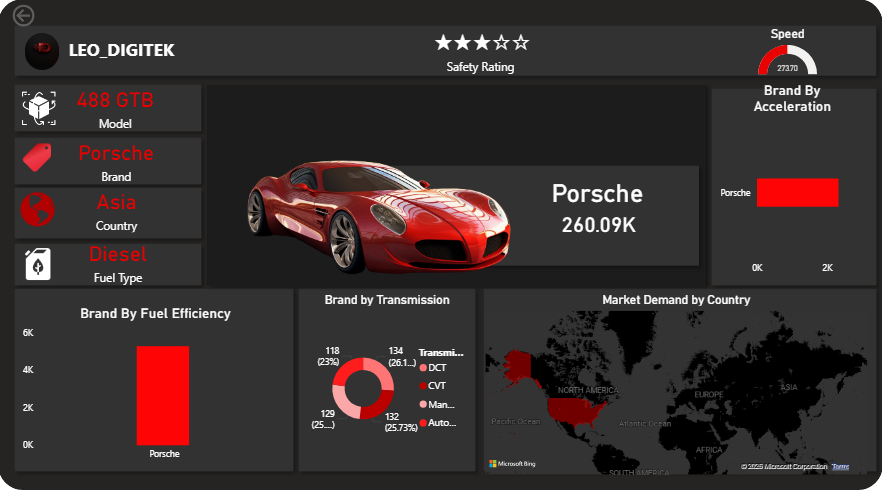

Layout of this report page (visuals, bound fields, positions):
{"tool":"powerbi","page":{"name":"Vehicle Drill Through","canvas":[1280,720],"ordinal":1},"visuals":[{"type":"shape","box":[30.3,9.6,1218.1,675.8],"z":0},{"type":"shape","box":[44,191.3,275.3,82.6],"z":1000},{"type":"shape","box":[44,260.1,275.3,88.1],"z":2000},{"type":"shape","box":[44,337.2,275.3,75.7],"z":3000},{"type":"shape","box":[44,399.1,401.9,269.8],"z":4000},{"type":"shape","box":[434.9,399.1,261.5,269.8],"z":5000},{"type":"shape","box":[689.5,399.1,558.8,269.8],"z":6000},{"type":"filledMap","title":"Market Demand by Country","fields":{"Category":["Table_Elite_Sports_Cars_in_Data.Country"]},"box":[696.4,412.9,535.4,256],"z":7000},{"type":"shape","box":[44,118.4,275.3,82.6],"z":8000},{"type":"shape","box":[309.7,118.4,704.7,294.5],"z":9000},{"type":"shape","box":[1003.4,123.9,245,289],"z":10000},{"type":"card","fields":{"Values":["Min(Table_Elite_Sports_Cars_in_Data.Model)"]},"box":[75.8,118.7,231.7,77.2],"z":11000},{"type":"card","fields":{"Values":["Min(Table_Elite_Sports_Cars_in_Data.Brand)"]},"box":[94.4,191.6,195.9,77.2],"z":12000},{"type":"card","fields":{"Values":["Min(Table_Elite_Sports_Cars_in_Data.Country)"]},"box":[67.2,258.9,251.7,77.2],"z":13000},{"type":"card","fields":{"Values":["Min(Table_Elite_Sports_Cars_in_Data.Fuel_Type)"]},"box":[67.2,324.6,256,88.7],"z":14000},{"type":"shape","box":[44.3,37.2,1204.2,87.2],"z":15000},{"type":"shape","box":[539.5,133.5,463.8,265.6],"z":16000},{"type":"card","fields":{"Values":["Min(Table_Elite_Sports_Cars_in_Data.Brand)"]},"box":[707.9,236,296,77.2],"z":18000},{"type":"card","fields":{"Values":["Avg(Table_Elite_Sports_Cars_in_Data.Price)"]},"box":[758,298.9,197.4,38.6],"z":19000},{"type":"columnChart","title":"Brand By Fuel Efficiency ","fields":{"Category":["Table_Elite_Sports_Cars_in_Data.Brand"],"Y":["Sum(Table_Elite_Sports_Cars_in_Data.Fuel_Efficiency)"]},"box":[58.6,430.5,376.1,223.1],"z":20000},{"type":"gauge","title":"Speed","fields":{"Y":["Avg(Table_Elite_Sports_Cars_in_Data.Top_Speed)"],"MinValue":["Min(Table_Elite_Sports_Cars_in_Data.Top_Speed)1"],"MaxValue":["Max(Table_Elite_Sports_Cars_in_Data.Top_Speed)2"]},"box":[1004,47.2,227.4,71.5],"z":21000},{"type":"clusteredBarChart","title":"Brand By Acceleration","fields":{"Y":["Sum(Table_Elite_Sports_Cars_in_Data.Acceleration_0_100)"],"Category":["Table_Elite_Sports_Cars_in_Data.Brand"]},"box":[1015.4,124.4,216,274.6],"z":22000},{"type":"donutChart","title":"Brand by Transmission","fields":{"Category":["Table_Elite_Sports_Cars_in_Data.Transmission"],"Y":["CountNonNull(Table_Elite_Sports_Cars_in_Data.Brand)"]},"box":[451.9,413.3,228.8,244.6],"z":23000},{"type":"image","box":[45.8,349,77.2,50.1],"z":24000},{"type":"image","box":[58.6,180.2,48.6,94.4],"z":25000},{"type":"image","box":[58.6,254.6,51.5,88.7],"z":26000},{"type":"image","box":[61.5,133,48.6,52.9],"z":27000},{"type":"image","box":[67.2,55.8,47.2,51.5],"z":28000},{"type":"textbox","box":[123,55.8,277.5,51.5],"z":29000},{"type":"actionButton","box":[45.8,12.9,100.1,40],"z":30000},{"type":"card","fields":{"Values":["Table_Elite_Sports_Cars_in_Data.Average of Safety_Rating star rating"]},"box":[546.3,37.2,300.3,81.5],"z":31000},{"type":"image","box":[323.4,130.8,419.8,275.3],"z":31001}]}

Visuals, with their boxes in screenshot pixels (x1, y1, x2, y2), scaled from the page's 1280x720 canvas onto the 882x496 screenshot:
shape: <bbox>21, 7, 860, 472</bbox>
shape: <bbox>30, 132, 220, 189</bbox>
shape: <bbox>30, 179, 220, 240</bbox>
shape: <bbox>30, 232, 220, 284</bbox>
shape: <bbox>30, 275, 307, 461</bbox>
shape: <bbox>300, 275, 480, 461</bbox>
shape: <bbox>475, 275, 860, 461</bbox>
"Market Demand by Country" filledMap: <bbox>480, 284, 849, 461</bbox>
shape: <bbox>30, 82, 220, 138</bbox>
shape: <bbox>213, 82, 699, 284</bbox>
shape: <bbox>691, 85, 860, 284</bbox>
card - Min(Table_Elite_Sports_Cars_in_Data.Model): <bbox>52, 82, 212, 135</bbox>
card - Min(Table_Elite_Sports_Cars_in_Data.Brand): <bbox>65, 132, 200, 185</bbox>
card - Min(Table_Elite_Sports_Cars_in_Data.Country): <bbox>46, 178, 220, 232</bbox>
card - Min(Table_Elite_Sports_Cars_in_Data.Fuel_Type): <bbox>46, 224, 223, 285</bbox>
shape: <bbox>31, 26, 860, 86</bbox>
shape: <bbox>372, 92, 691, 275</bbox>
card - Min(Table_Elite_Sports_Cars_in_Data.Brand): <bbox>488, 163, 692, 216</bbox>
card - Avg(Table_Elite_Sports_Cars_in_Data.Price): <bbox>522, 206, 658, 232</bbox>
"Brand By Fuel Efficiency " columnChart: <bbox>40, 297, 300, 450</bbox>
"Speed" gauge: <bbox>692, 33, 849, 82</bbox>
"Brand By Acceleration" clusteredBarChart: <bbox>700, 86, 849, 275</bbox>
"Brand by Transmission" donutChart: <bbox>311, 285, 469, 453</bbox>
image: <bbox>32, 240, 85, 275</bbox>
image: <bbox>40, 124, 74, 189</bbox>
image: <bbox>40, 175, 76, 236</bbox>
image: <bbox>42, 92, 76, 128</bbox>
image: <bbox>46, 38, 79, 74</bbox>
textbox: <bbox>85, 38, 276, 74</bbox>
actionButton: <bbox>32, 9, 101, 36</bbox>
card - Table_Elite_Sports_Cars_in_Data.Average of Safety_Rating star rating: <bbox>376, 26, 583, 82</bbox>
image: <bbox>223, 90, 512, 280</bbox>
